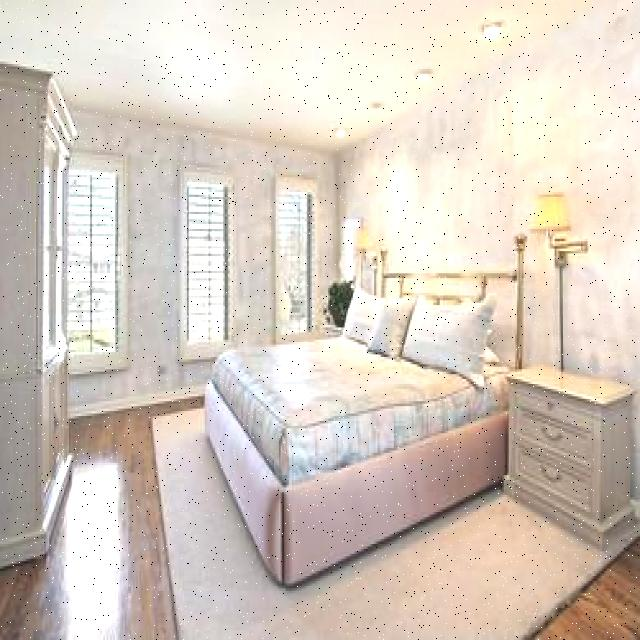bed: (215, 279, 517, 521)
